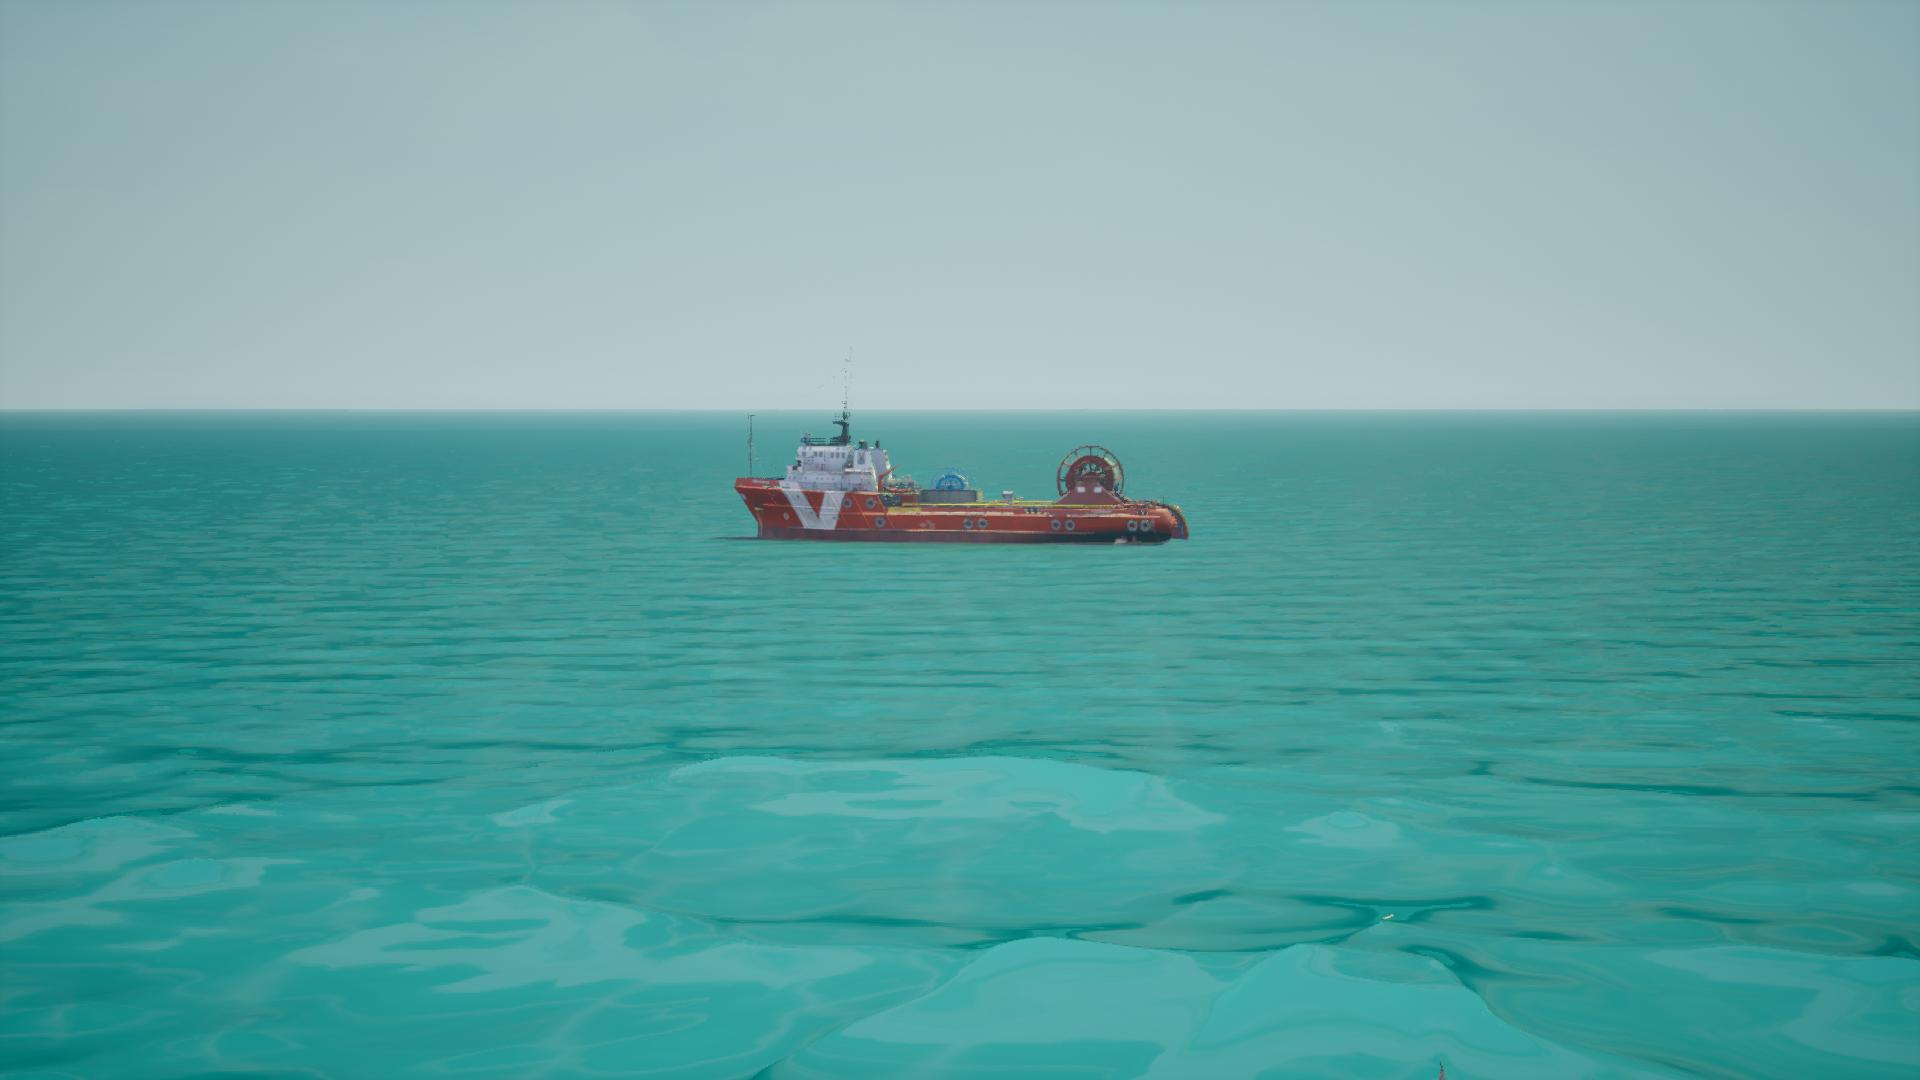Tug Boat: (731, 386, 1185, 550)
